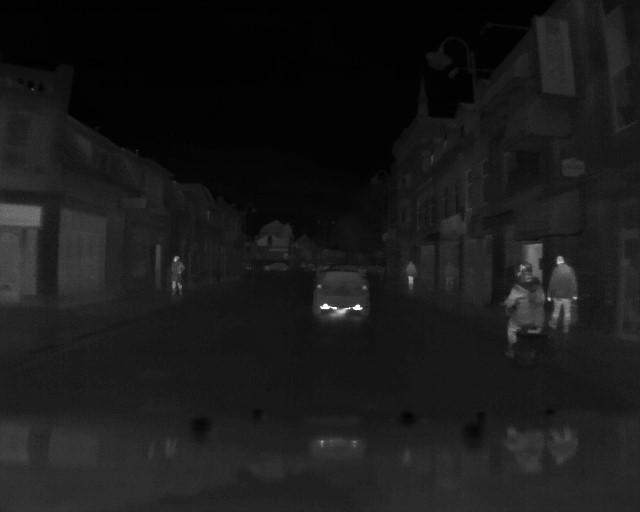car: (306, 267, 377, 323)
person: (498, 261, 547, 367), (548, 249, 581, 340), (166, 253, 186, 296), (403, 258, 420, 295)
